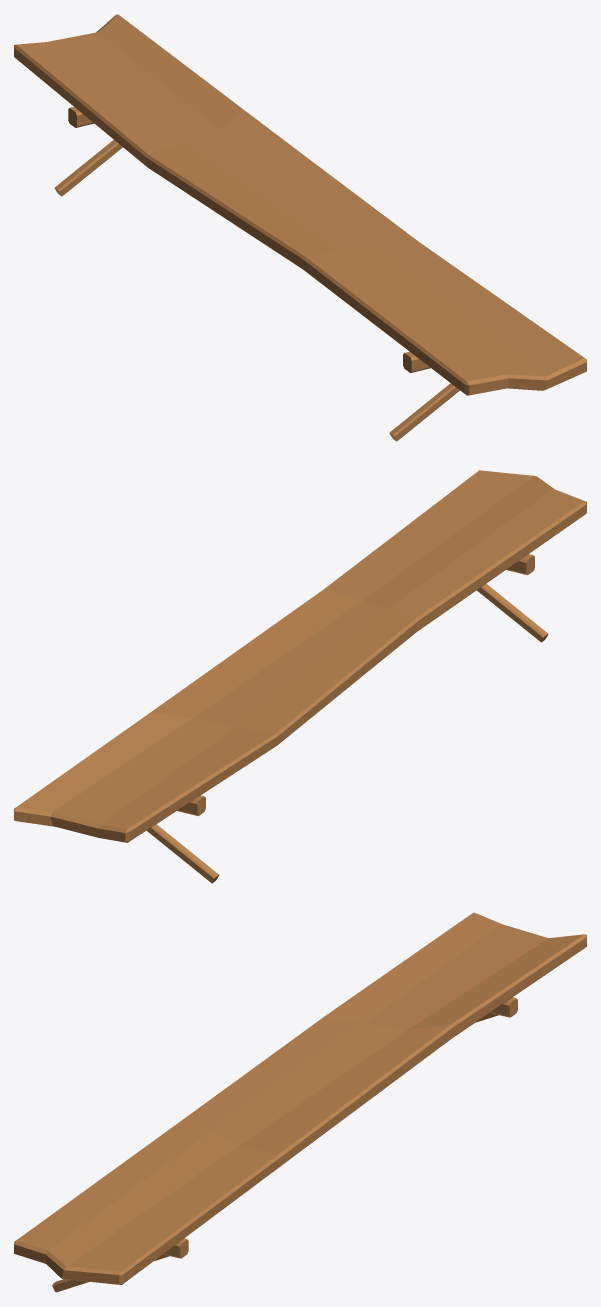
The model's file is Plankmuurlos.fbx.
3 renders of one model, top to bottom at view 1: azimuth 30°, elevation 25°; view 2: azimuth 150°, elevation 25°; view 3: azimuth 330°, elevation 25°, orthographic.
Visible parts, largest first — view 1: Plank, Frame; view 2: Plank, Frame; view 3: Plank, Frame.
Part boxes in pixels (x1,y1,x2,y2): Plank: (14,14,586,395); Frame: (54,107,459,441); Plank: (14,470,586,842); Frame: (146,554,548,883); Plank: (14,912,586,1284); Frame: (52,997,517,1292).
Size of the model in its own units: 80.96 by 57.05 by 499.
